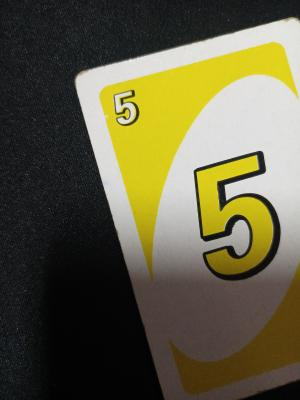num_5: (187, 138, 291, 315), (109, 82, 155, 144)
